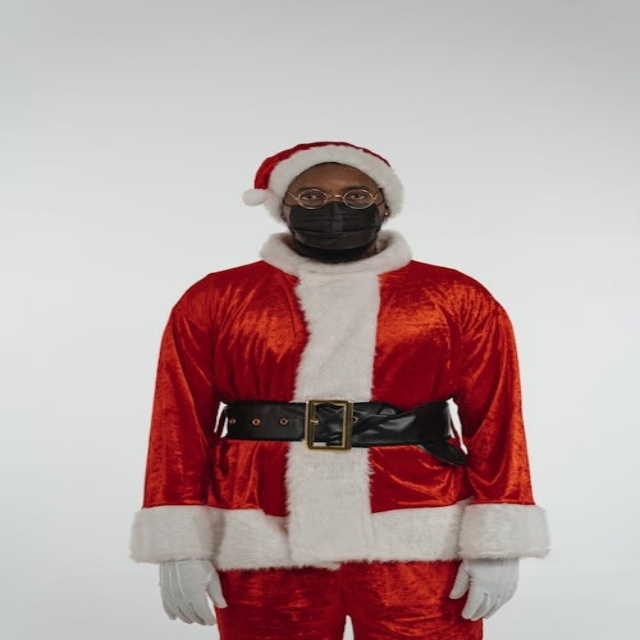Gafas: (283, 187, 385, 210)
Guantes: (157, 559, 225, 625), (450, 558, 518, 622)
Mascara: (285, 197, 382, 251)
